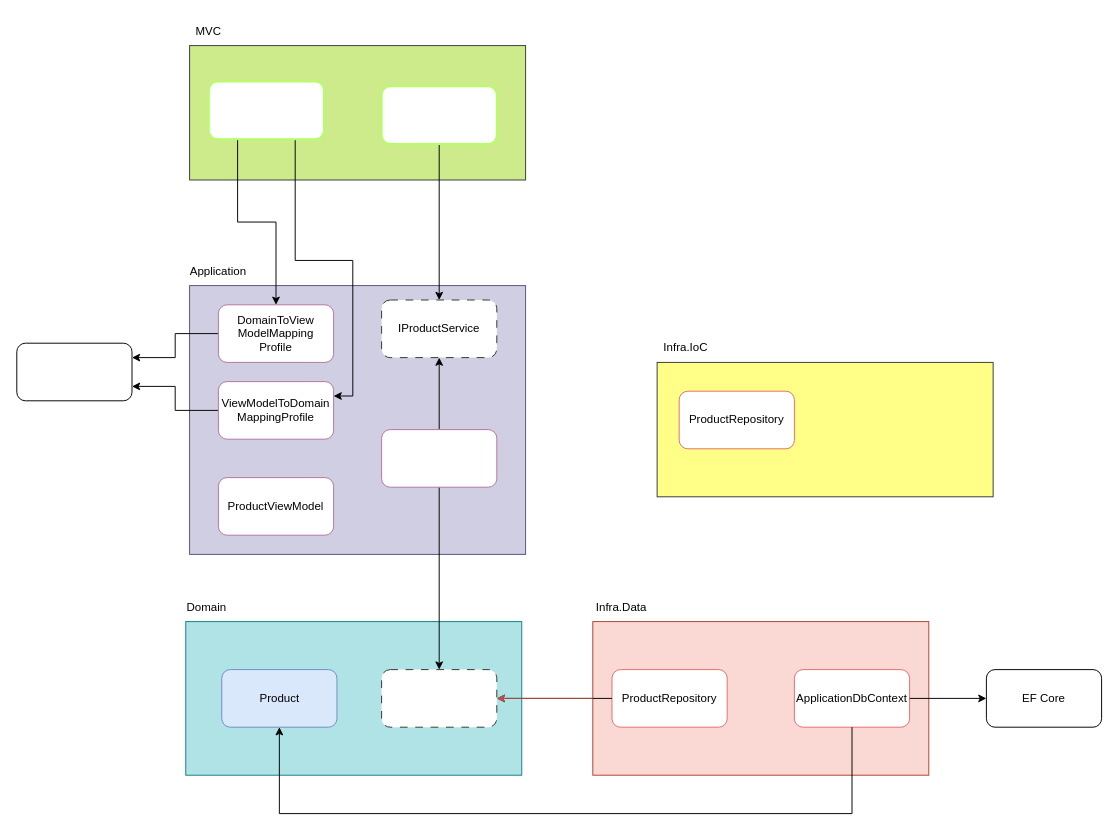
Image size: 1118x838. Some labels were removed from this diagram. The centre of each missing label's shape, as x and y in pixels:
"AutoMapper" belongs at point 74,371.
"AutoMapperConfig" belongs at point 265,110.
"IProductRepository" belongs at point 439,698.
"ProductController" belongs at point 438,114.
"ProductService" belongs at point 439,458.
